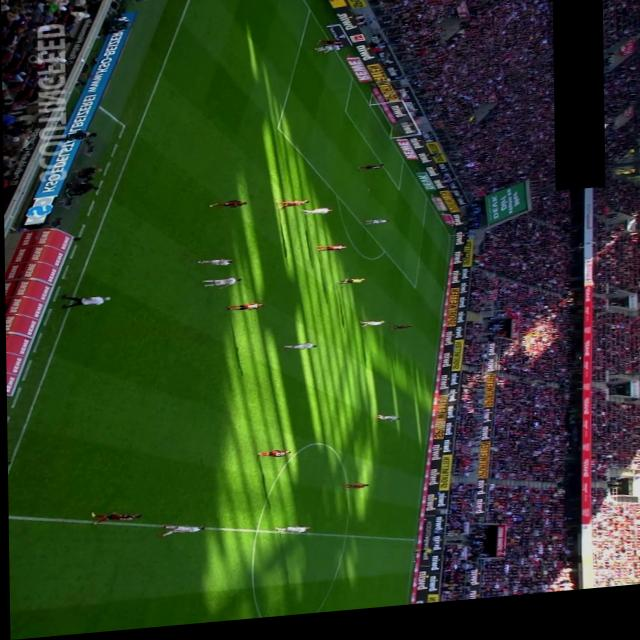player: (88, 510, 140, 527), (155, 524, 203, 542), (200, 281, 241, 295), (225, 306, 263, 317), (208, 204, 246, 215), (276, 204, 308, 216), (272, 530, 309, 540), (195, 262, 232, 272), (299, 212, 333, 222), (254, 454, 289, 463), (281, 348, 315, 357), (314, 50, 342, 60), (315, 250, 347, 258), (341, 487, 367, 496), (357, 326, 383, 335), (355, 170, 383, 178), (374, 421, 398, 430), (316, 44, 342, 52), (363, 225, 388, 232), (389, 331, 411, 338)
referee: (336, 284, 364, 292), (410, 555, 432, 563)
